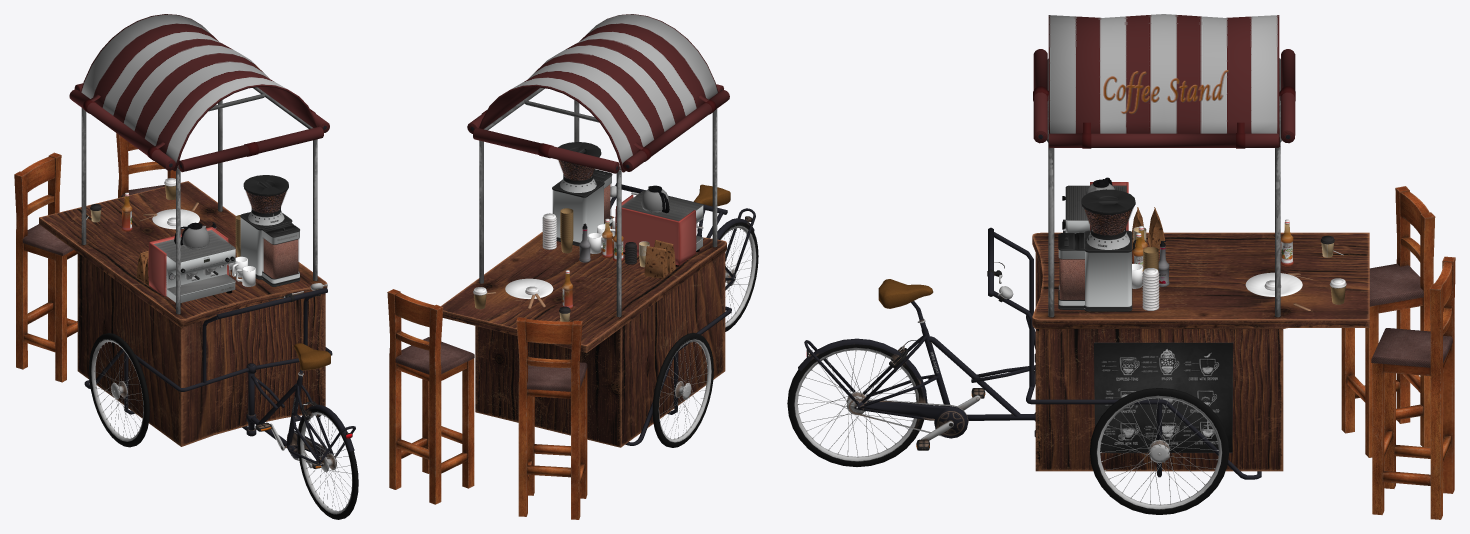
The model's file is CoffeeCart.glb.
3 views of the same model, side by side, from view 1: azimuth 30°, elevation 25°; view 2: azimuth 150°, elevation 25°; view 3: azimuth 270°, elevation 25° (orthographic). The views are drawn at different scales.
Visible parts, largest first — view 1: table_low, ceiling_low, chair_low.001, cloth-3_low, body-machine_low, tire.003_low, tire.001_low, coffee_low, grain_low, cylinder-2_low, cylinder-1_low, body_low.001 (+13 smaller); view 2: table_low, ceiling_low, chair_low, chair_low.001, cloth-3_low, body-machine_low, tire.003_low, body_low.001, cylinder-1_low, grain_low, tire.001_low, cylinder-2_low (+8 smaller); view 3: table_low, ceiling_low, chair_low, chair_low.001, cloth-3_low, tire.002_low, tire.001_low, body_low.001, grain_low, coffee_low, cover_low, frame.010_low (+10 smaller).
Part boxes in pixels (x1,y1,x2,y2): table_low: (39,181,327,446); ceiling_low: (80,14,317,171); chair_low.001: (14,152,77,382); cloth-3_low: (69,83,329,172); body-machine_low: (148,227,235,296); tire.003_low: (89,333,149,447); tire.001_low: (297,408,358,519); coffee_low: (262,222,300,286); grain_low: (243,175,288,225); cylinder-2_low: (176,139,317,314); cylinder-1_low: (81,100,222,244); body_low.001: (240,212,292,279); table_low: (441,216,726,447); ceiling_low: (479,14,718,172); chair_low: (387,289,474,504); chair_low.001: (516,317,587,519); cloth-3_low: (467,84,729,173); body-machine_low: (615,190,703,265); tire.003_low: (652,333,713,447); body_low.001: (552,179,604,246); cylinder-1_low: (479,140,621,317); grain_low: (558,142,601,192); tire.001_low: (719,222,758,331); cylinder-2_low: (574,100,717,247); table_low: (1032,232,1369,471); ceiling_low: (1048,14,1280,146); chair_low: (1371,256,1455,519); chair_low.001: (1341,186,1435,457); cloth-3_low: (1033,49,1295,148); tire.002_low: (1090,388,1229,514); tire.001_low: (787,344,923,466); body_low.001: (1084,230,1132,311); grain_low: (1081,189,1135,249); coffee_low: (1058,232,1084,309); cover_low: (860,400,968,438); frame.010_low: (1026,315,1261,479).
Size of the model in its own units: 2.07 by 4.05 by 5.53.
6 materials, 6 textured.
